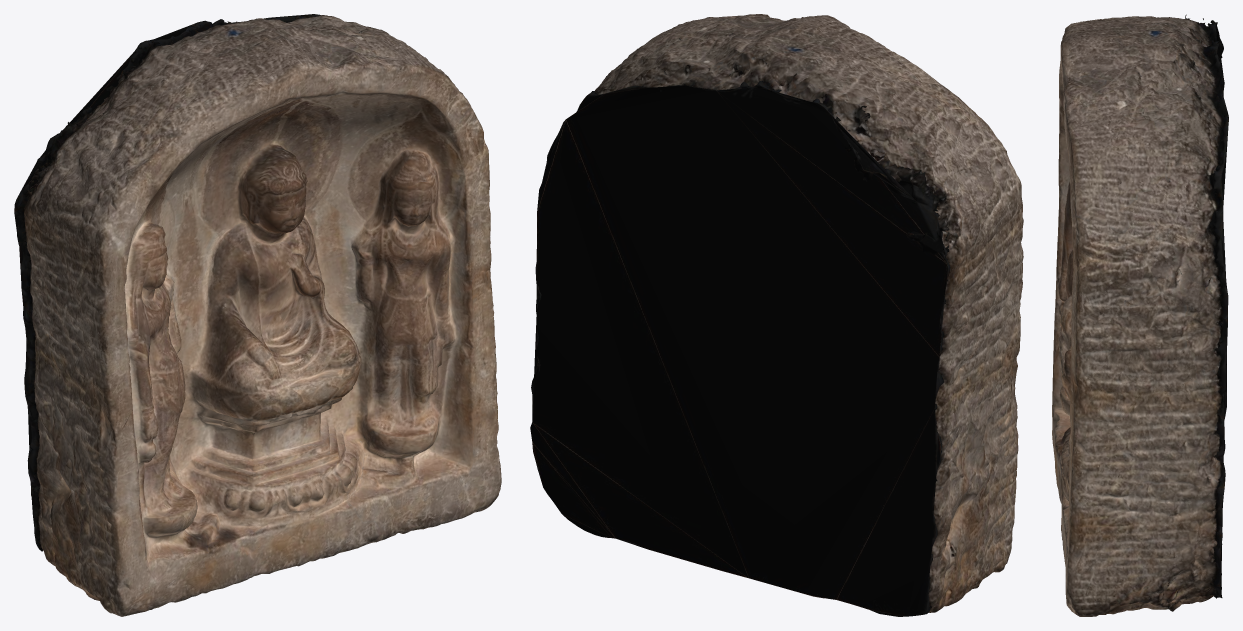
3 views of the same model, side by side, from view 1: azimuth 30°, elevation 25°; view 2: azimuth 150°, elevation 25°; view 3: azimuth 270°, elevation 25° (orthographic). The views are drawn at different scales.
Parts seen in each view (by area): view 1: Object_2; view 2: Object_2; view 3: Object_2.
Part boxes in pixels (left/top/right/bottom): Object_2: left=14, top=14, right=501, bottom=616; Object_2: left=530, top=14, right=1023, bottom=616; Object_2: left=1052, top=14, right=1228, bottom=616.
Size of the model in its own units: 0.4875 by 0.5777 by 0.1852.
1 material, 1 textured.
